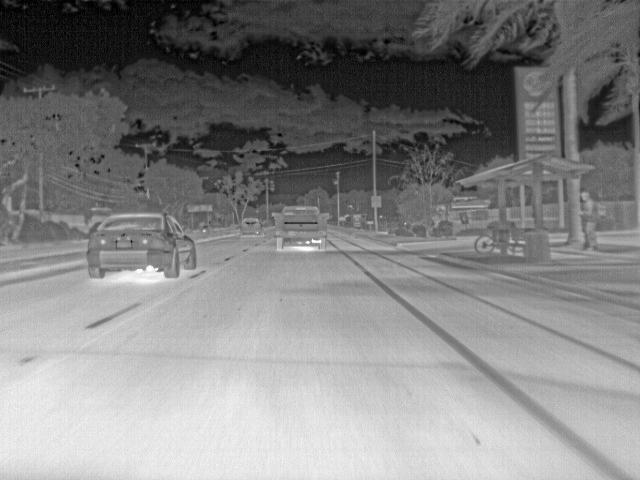car: (86, 211, 196, 279), (272, 204, 328, 252), (240, 218, 260, 236)
person: (578, 190, 600, 252)
